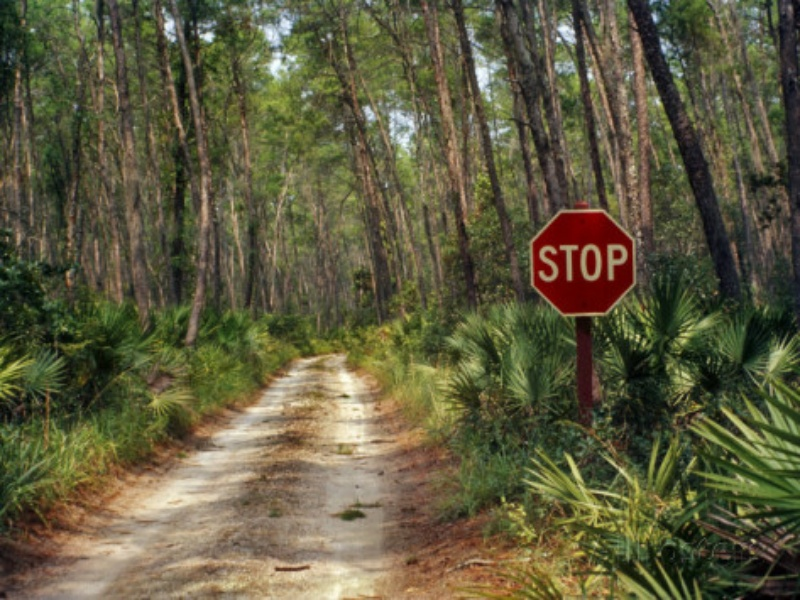stop sign: (526, 207, 642, 320)
